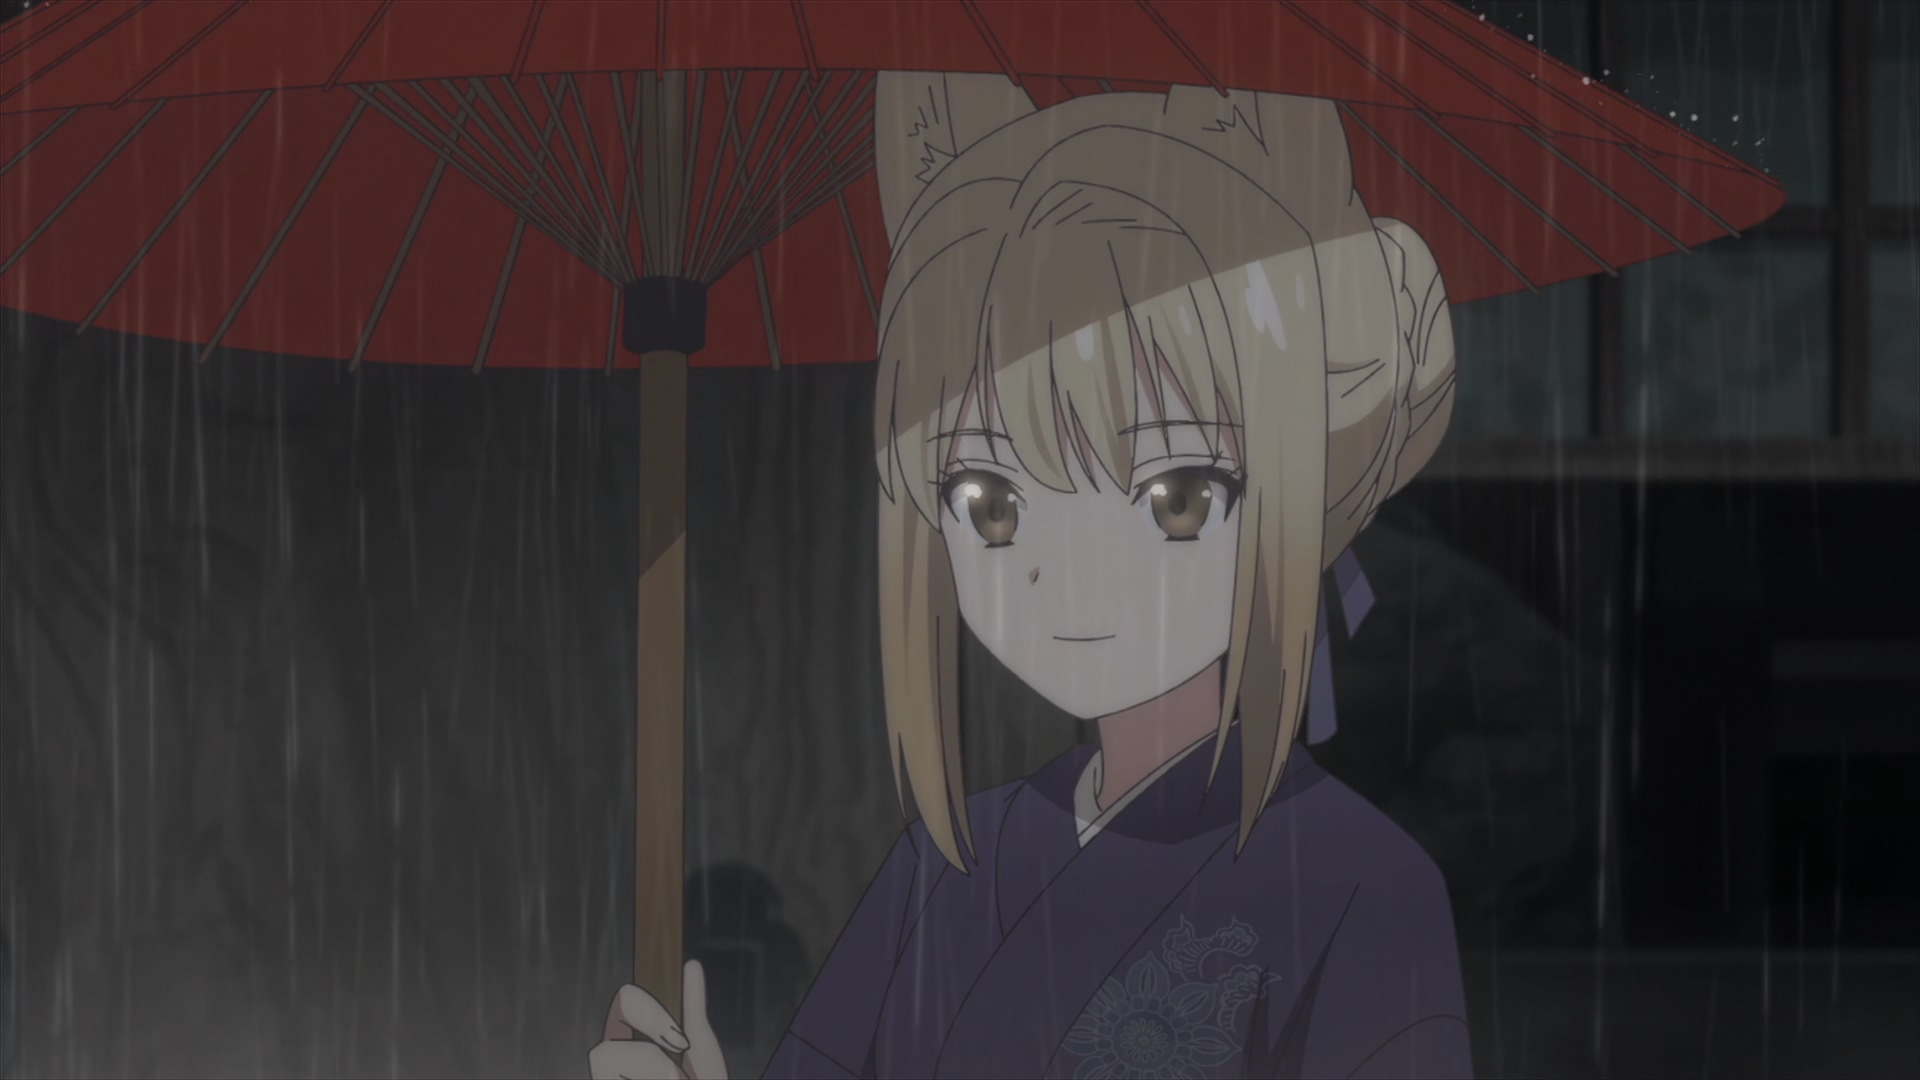桐: (589, 67, 1468, 1080)
